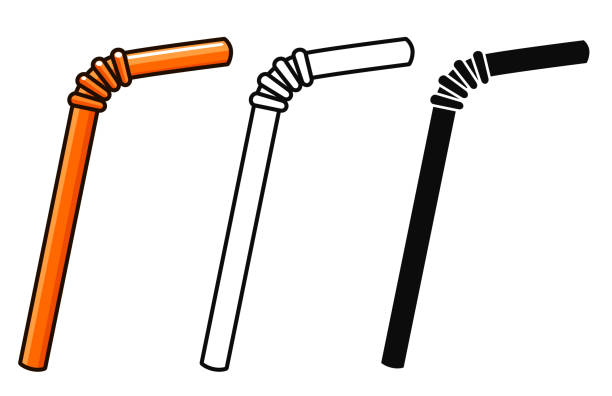Drinking Straw: (16, 33, 234, 373)
